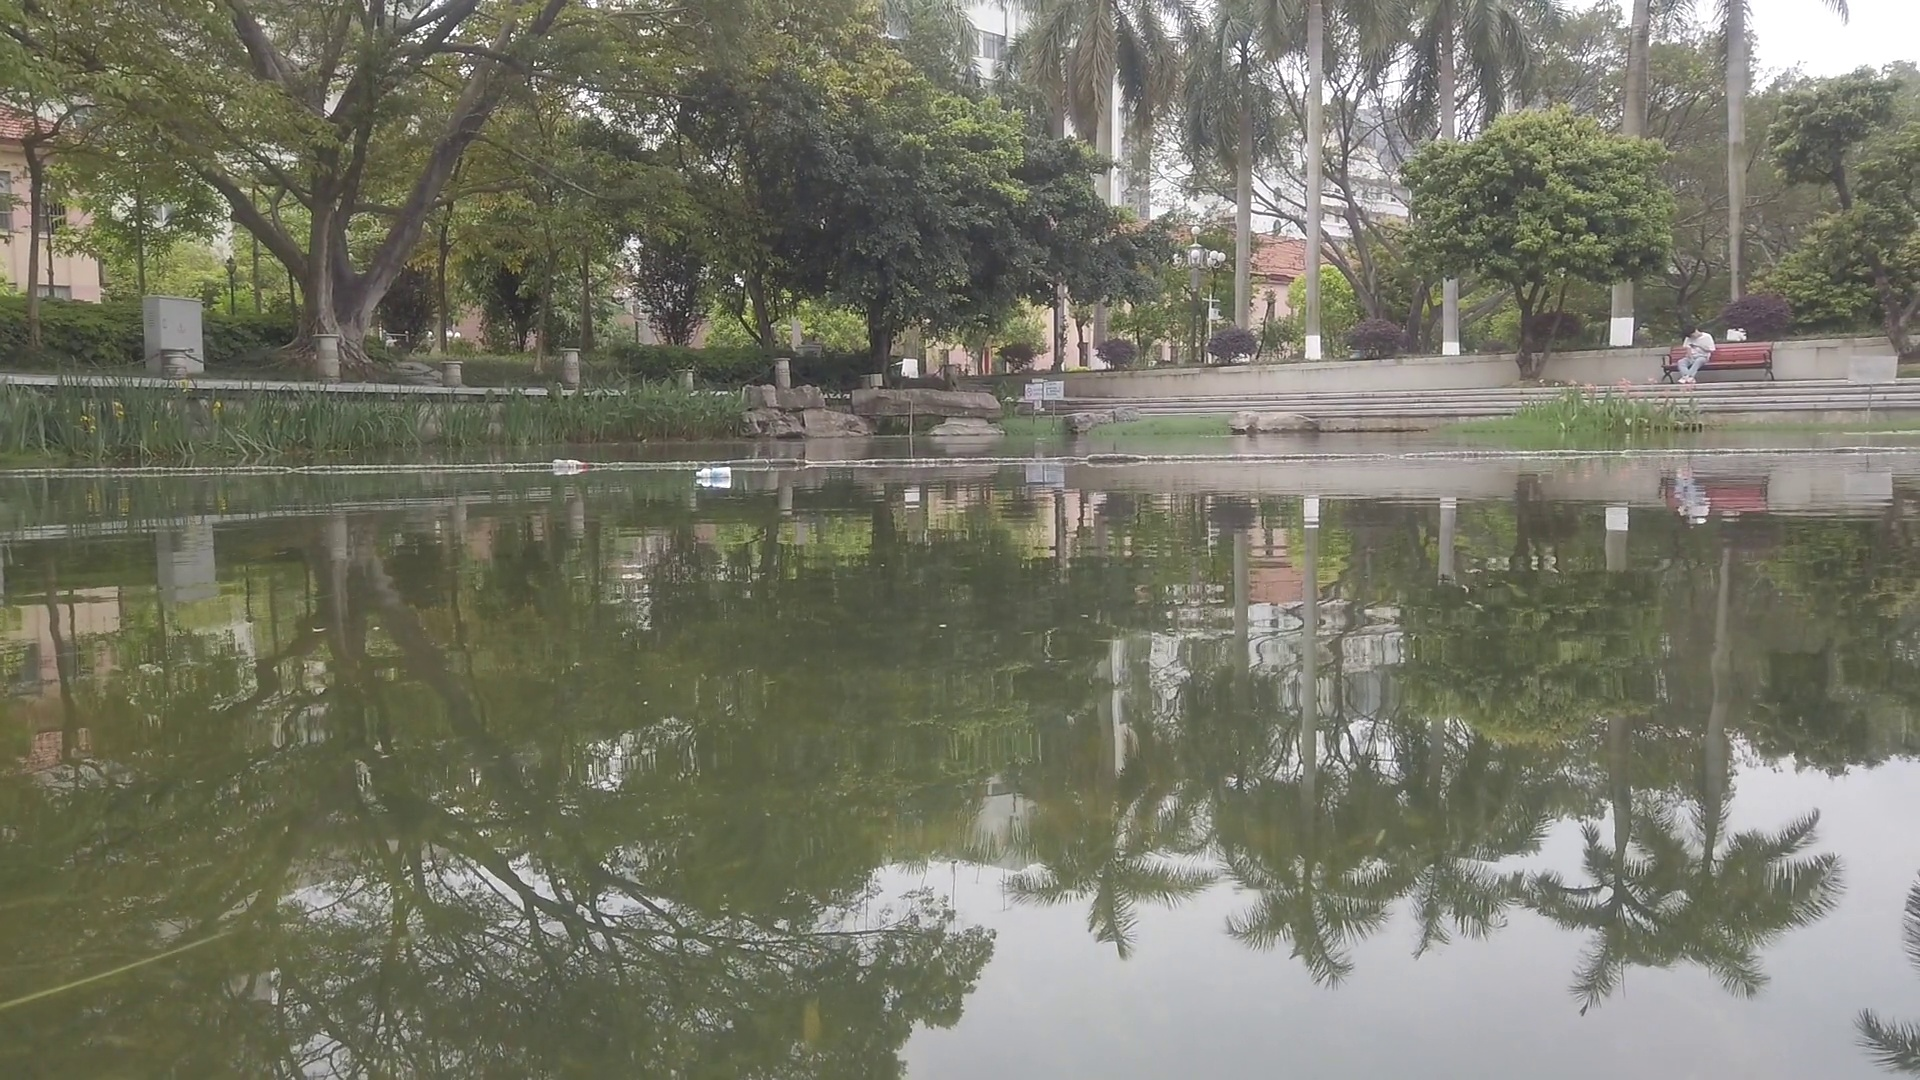bottle: (695, 465, 732, 477), (553, 460, 588, 471)
